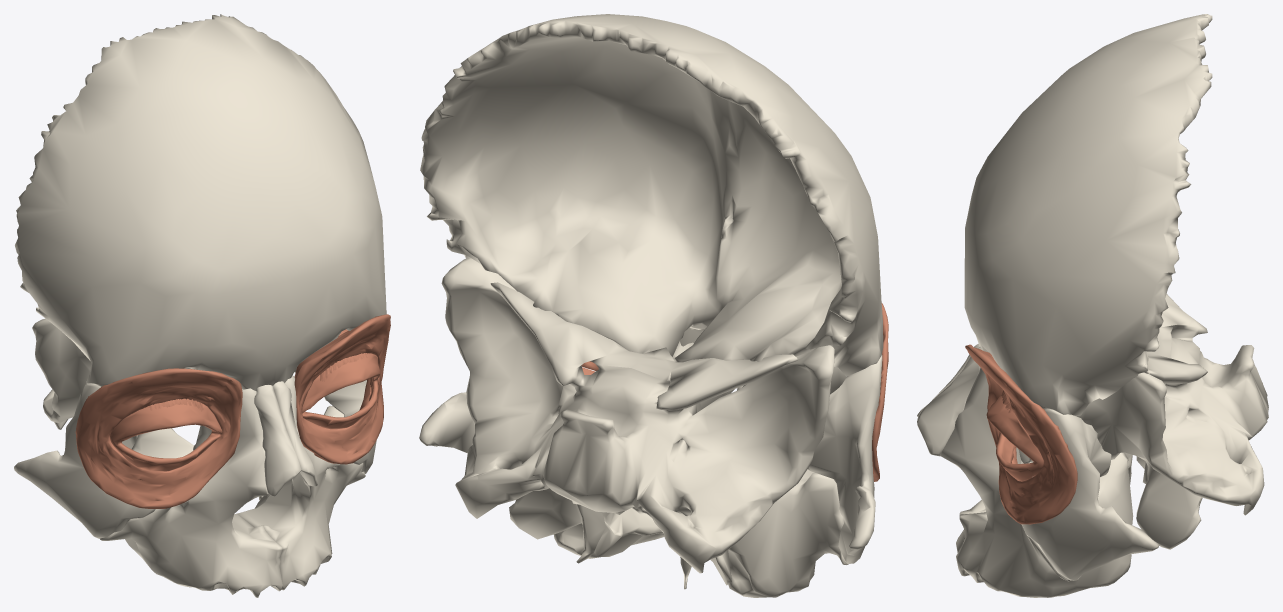
Rendered from motion-blink.glb.
3 views of the same model, side by side, from view 1: azimuth 30°, elevation 25°; view 2: azimuth 150°, elevation 25°; view 3: azimuth 270°, elevation 25° (orthographic). The views are drawn at different scales.
Visible parts, largest first — view 1: Frontal bone.001, Maxilla.r.001, Orbital part of orbicularis oculi.r.001, Maxilla.l.001, Orbital part of orbicularis oculi.l.001, Zygomatic bone.r.001, Sphenoid bone.001, Palpebral part of orbicularis oculi.r.001, Nasal bone.r.001, Palpebral part of orbicularis oculi.l.001, Nasal bone.l.001, Zygomatic bone.l.001; view 2: Frontal bone.001, Sphenoid bone.001, Maxilla.r.001, Zygomatic bone.r.001, Maxilla.l.001, Zygomatic bone.l.001, Orbital part of orbicularis oculi.r.001; view 3: Frontal bone.001, Sphenoid bone.001, Maxilla.l.001, Zygomatic bone.l.001, Orbital part of orbicularis oculi.l.001, Nasal bone.l.001, Palpebral part of orbicularis oculi.l.001.
Boxes of the visible parts, box(x1,y1,x2,y2) form: Frontal bone.001: box(15, 14, 386, 391); Maxilla.r.001: box(100, 388, 282, 597); Orbital part of orbicularis oculi.r.001: box(75, 368, 242, 508); Maxilla.l.001: box(237, 375, 365, 590); Orbital part of orbicularis oculi.l.001: box(294, 314, 390, 464); Zygomatic bone.r.001: box(14, 383, 155, 538); Sphenoid bone.001: box(32, 318, 298, 448); Palpebral part of orbicularis oculi.r.001: box(110, 401, 222, 471); Nasal bone.r.001: box(254, 385, 301, 496); Palpebral part of orbicularis oculi.l.001: box(302, 353, 380, 429); Nasal bone.l.001: box(273, 381, 317, 486); Zygomatic bone.l.001: box(324, 380, 376, 473); Frontal bone.001: box(420, 14, 883, 376); Sphenoid bone.001: box(441, 258, 845, 589); Maxilla.r.001: box(728, 469, 848, 597); Zygomatic bone.r.001: box(808, 355, 882, 563); Maxilla.l.001: box(553, 327, 734, 558); Zygomatic bone.l.001: box(419, 392, 474, 453); Orbital part of orbicularis oculi.r.001: box(872, 303, 888, 481); Frontal bone.001: box(964, 14, 1212, 416); Sphenoid bone.001: box(1078, 294, 1268, 549); Maxilla.l.001: box(940, 367, 1133, 597); Zygomatic bone.l.001: box(1021, 409, 1159, 580); Orbital part of orbicularis oculi.l.001: box(965, 344, 1077, 524); Nasal bone.l.001: box(917, 347, 982, 456); Palpebral part of orbicularis oculi.l.001: box(986, 395, 1043, 481).
Bounding box in the file's own units: 0.1246 × 0.1617 × 0.098.
